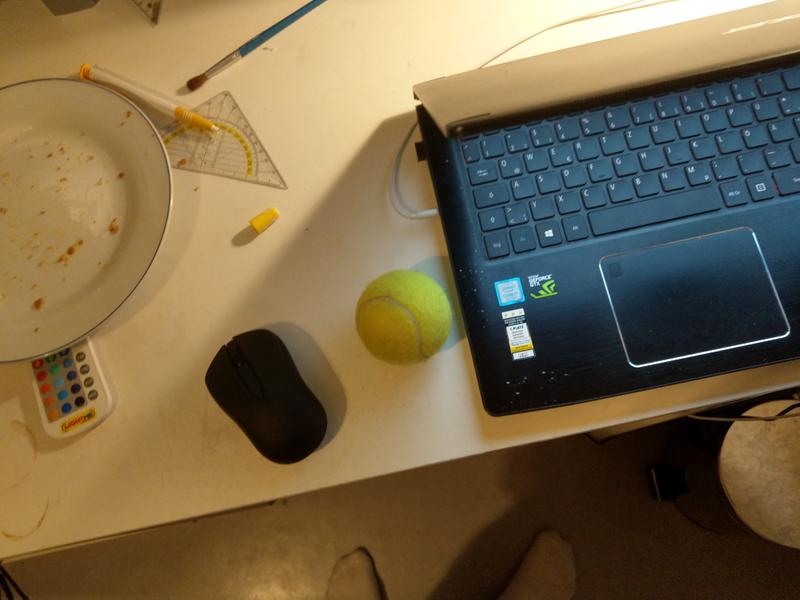Tennisball: (354, 265, 455, 367)
